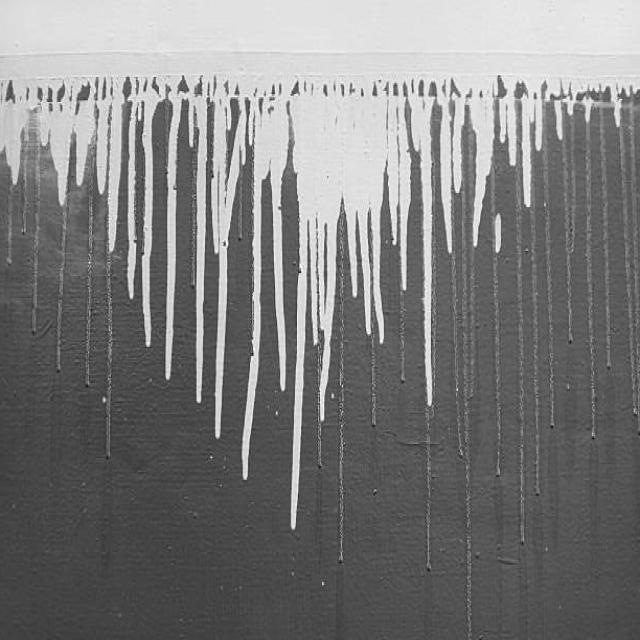paint drips: (0, 64, 639, 639)
